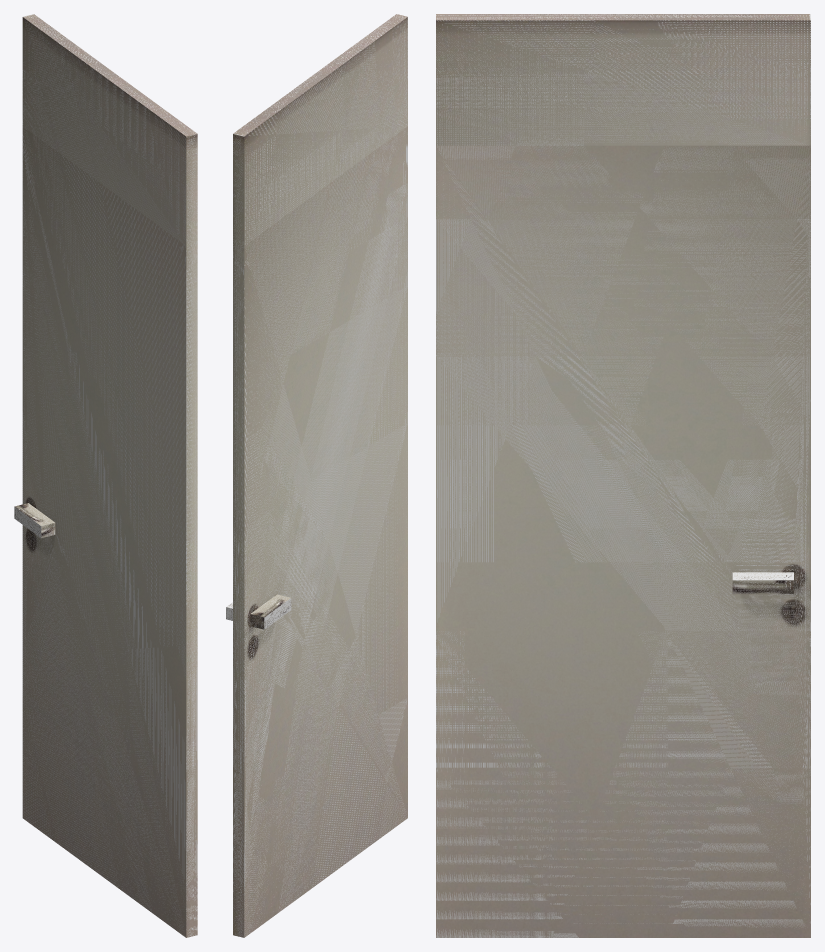
File: door_white_bedroom.dae
3 renders of one model, left to right at view 1: azimuth 30°, elevation 25°; view 2: azimuth 150°, elevation 25°; view 3: azimuth 270°, elevation 25°, orthographic. The views are drawn at different scales.
Visible parts, largest first — view 1: SketchUp (×2); view 2: SketchUp (×2); view 3: SketchUp (×2).
Part boxes in pixels (<box>): SketchUp (×2): <box>14,14,197,937</box>; SketchUp (×2): <box>233,14,407,937</box>; SketchUp (×2): <box>436,14,810,937</box>.
Bounding box in the file's own units: 0.1403 × 0.9995 × 2.7.
Materials: 5 (3 with a texture image).
